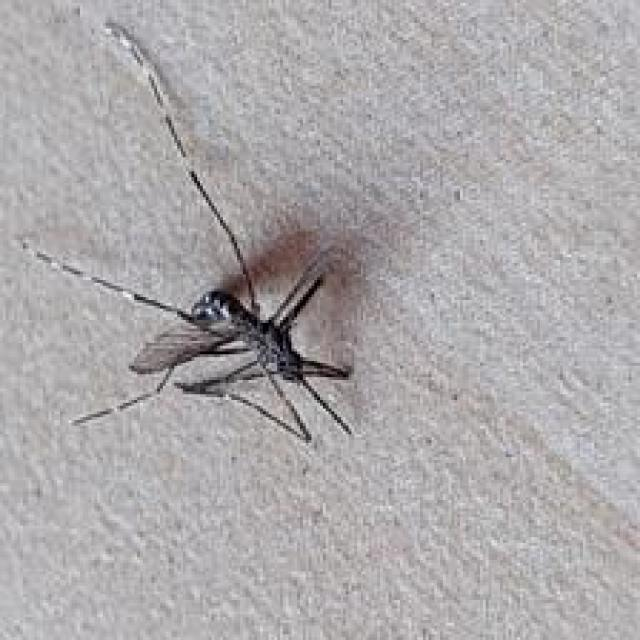Aedes albopictus: (20, 17, 357, 446)
